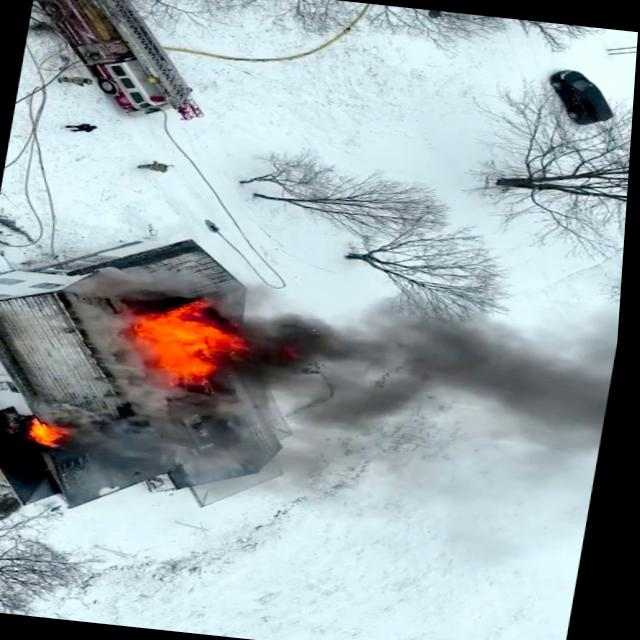fire: (111, 304, 246, 384), (21, 412, 75, 444)
smoke: (270, 310, 556, 408)
